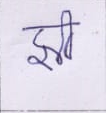i_matra: (61, 10, 76, 59)
